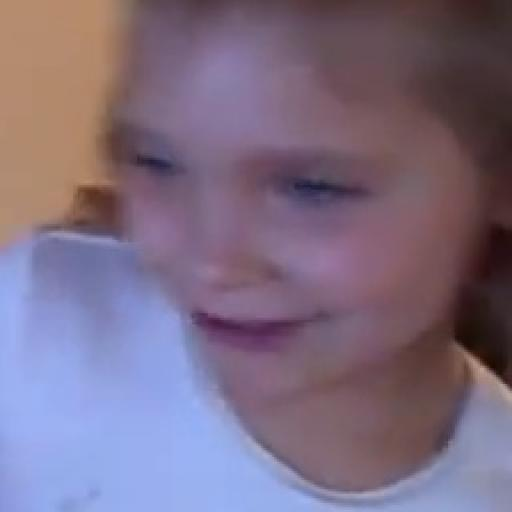Autism: (106, 22, 507, 387)
